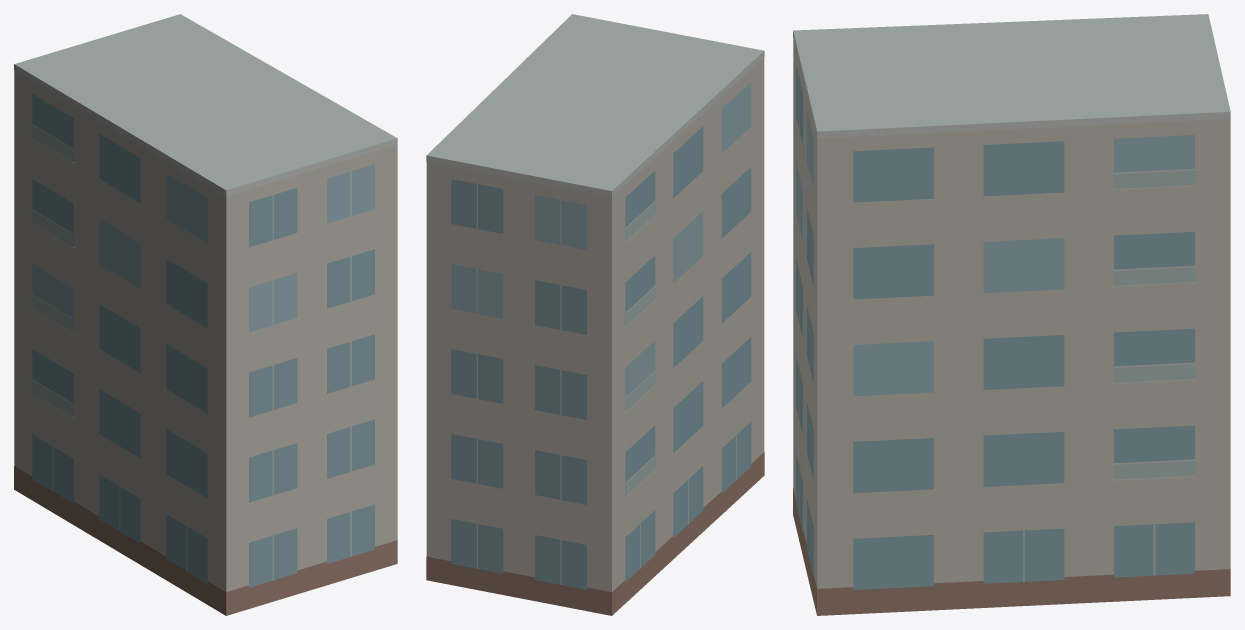
File: survey-upis-33033973.glb
The picture shows the model from 3 angles, left to right: view 1: azimuth 30°, elevation 25°; view 2: azimuth 150°, elevation 25°; view 3: azimuth 270°, elevation 25°; orthographic projection. The views are drawn at different scales.
Visible parts, largest first — view 1: survey-upis-33033973.tmp; view 2: survey-upis-33033973.tmp; view 3: survey-upis-33033973.tmp.
Part boxes in pixels (x1=…): survey-upis-33033973.tmp: x1=14, y1=14, x2=397, y2=615; survey-upis-33033973.tmp: x1=426, y1=14, x2=764, y2=615; survey-upis-33033973.tmp: x1=793, y1=14, x2=1230, y2=615.
Size of the model in its own units: 8.7 by 16.7 by 13.68.
